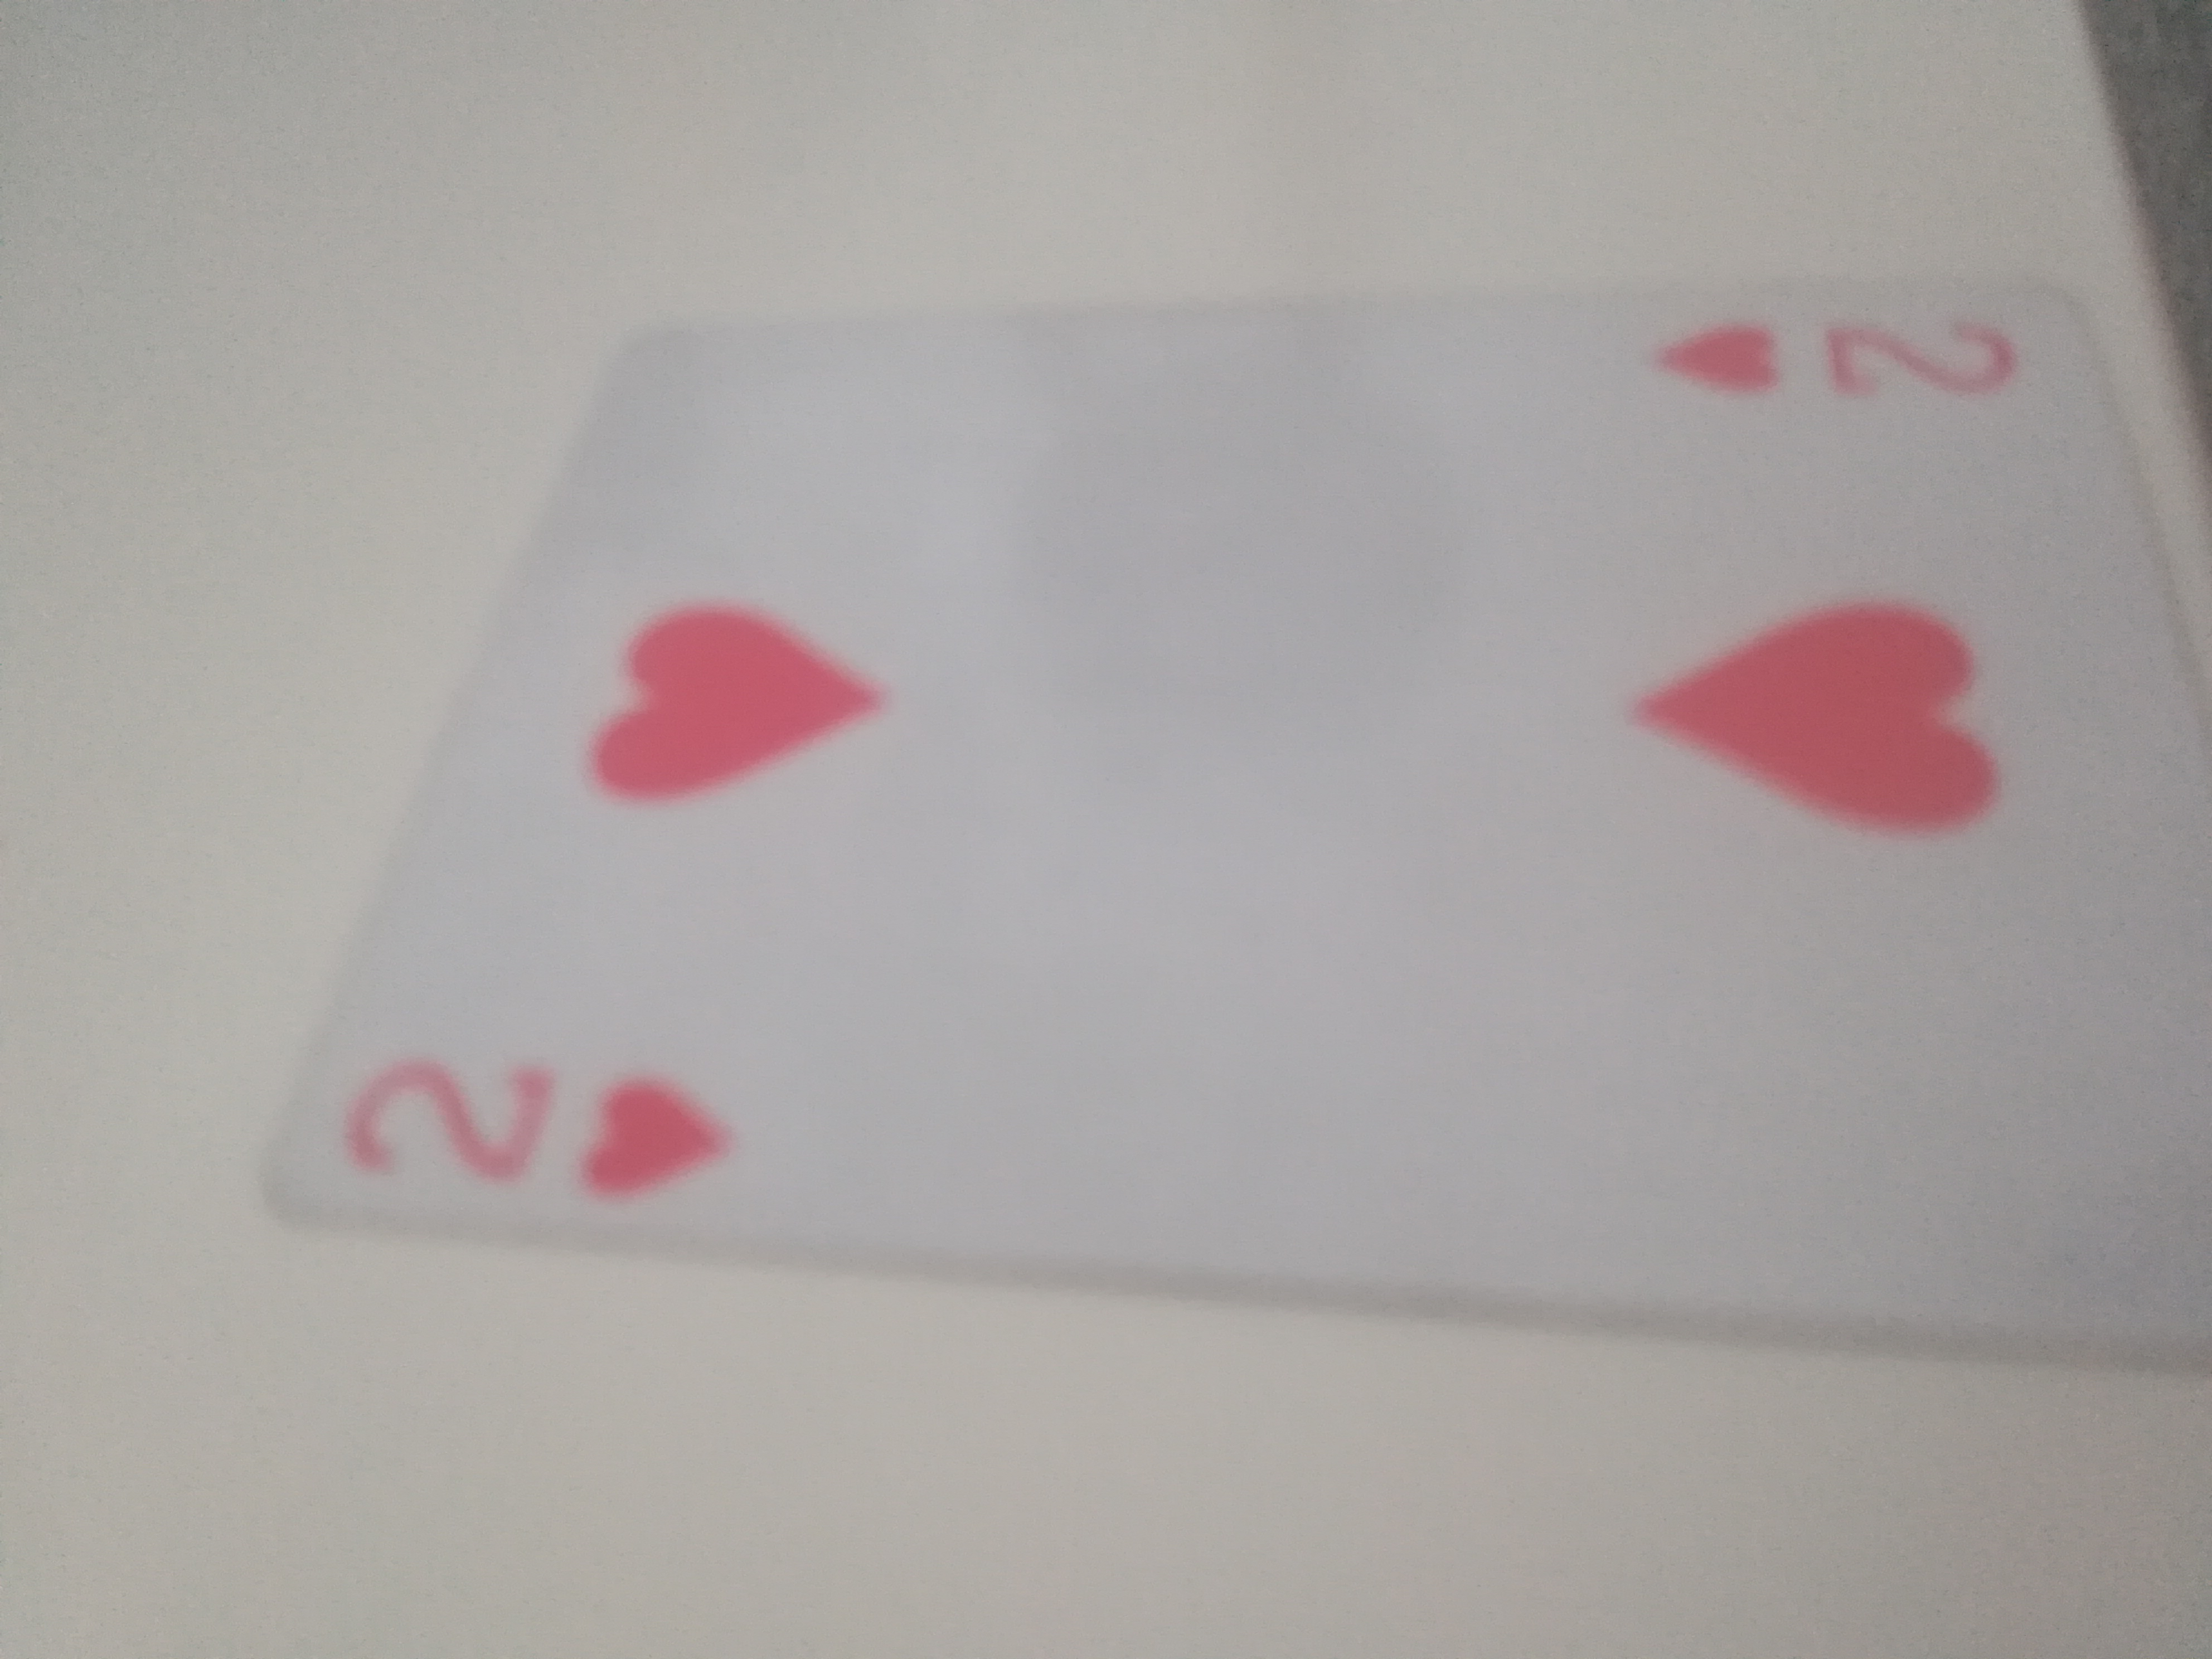2H: (258, 242, 2212, 1354)
